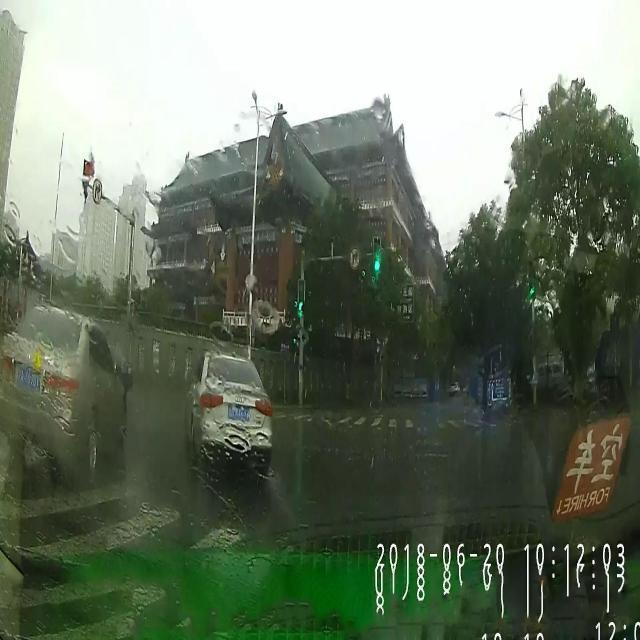car: (0, 304, 127, 478), (188, 347, 272, 469)
